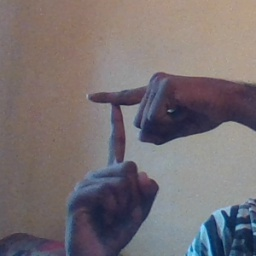T: (71, 73, 170, 187)
